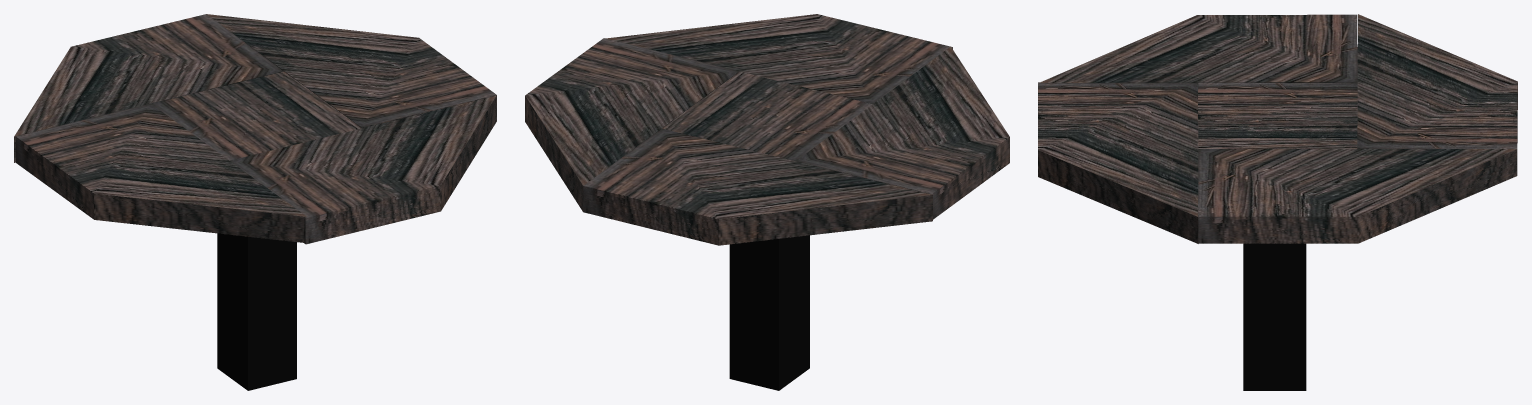
The model's file is Table.glb.
3 renders of one model, left to right at view 1: azimuth 30°, elevation 25°; view 2: azimuth 150°, elevation 25°; view 3: azimuth 270°, elevation 25°, orthographic. The views are drawn at different scales.
Parts seen in each view (by area): view 1: Cube.005, Cube.002, Cube.004, Cube.003, Cube, Cube.001; view 2: Cube.003, Cube.005, Cube.004, Cube.002, Cube, Cube.001; view 3: Cube.004, Cube.002, Cube.005, Cube.003, Cube.001, Cube.
Part boxes in pixels (<box>): Cube.005: <box>16,103,307,242</box>; Cube.002: <box>230,95,496,244</box>; Cube.004: <box>206,14,496,127</box>; Cube.003: <box>14,14,283,162</box>; Cube: <box>217,233,296,390</box>; Cube.001: <box>151,71,361,160</box>; Cube.003: <box>583,128,932,245</box>; Cube.005: <box>796,46,1009,219</box>; Cube.004: <box>525,38,739,211</box>; Cube.002: <box>606,14,952,103</box>; Cube: <box>729,235,809,390</box>; Cube.001: <box>662,71,872,161</box>; Cube.004: <box>1198,149,1516,243</box>; Cube.002: <box>1038,82,1198,243</box>; Cube.005: <box>1039,14,1357,88</box>; Cube.003: <box>1357,14,1517,175</box>; Cube.001: <box>1197,82,1357,148</box>; Cube: <box>1243,243,1306,390</box>.
Size of the model in its own units: 3.34 by 2.02 by 3.34.
6 materials, 5 textured.
